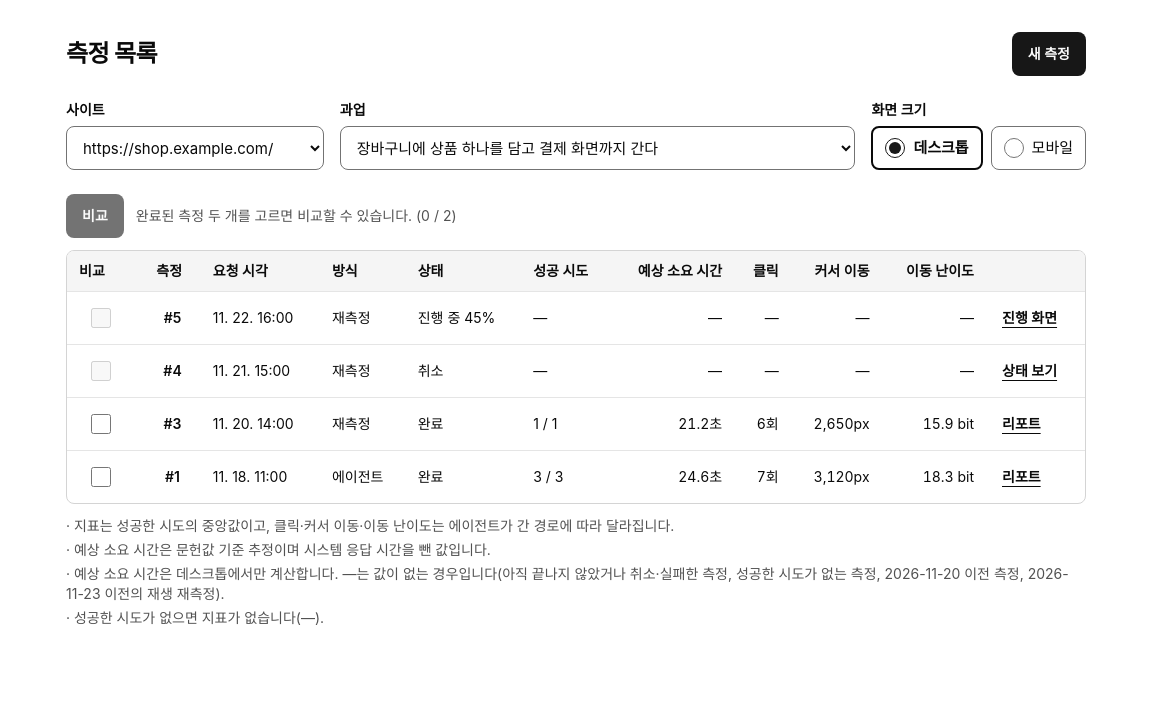
모바일로 바꾸면 viewport=mobile로 다시 읽고 예상 소요 시간 열을 뺀다
This screenshot has width=1152, height=720.
Expected: the column heading "#5" is shown, 144,292 -> 201,344
Click the radio button labelled "모바일": point(1014, 148) 1004,138 -> 1024,158
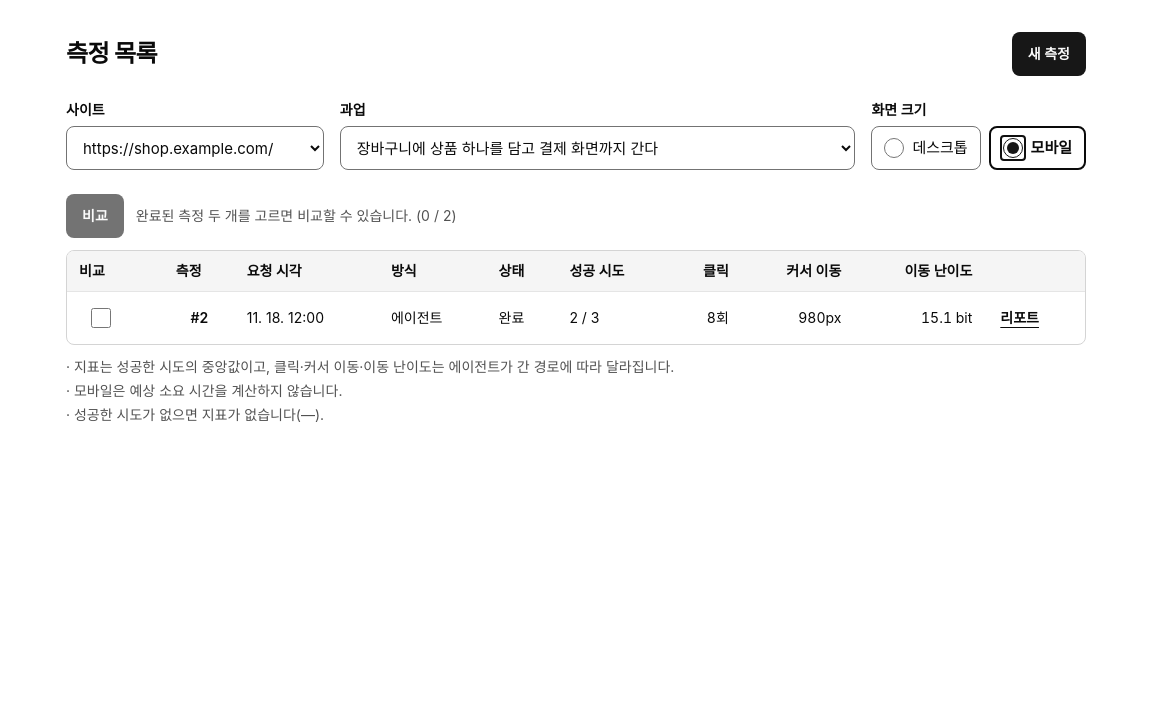
Expected: the column heading "#2" is shown, 164,292 -> 235,344
Expected: the list item "· 모바일은 예상 소요 시간을 계산하지 않습니다." is shown, 66,382 -> 342,399
